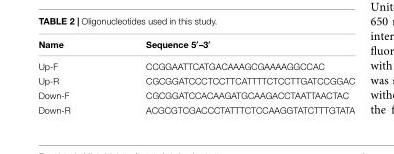table: (37, 37, 354, 114)
table column: (107, 37, 354, 114), (37, 37, 107, 114)
table column header: (37, 37, 354, 55)
table row: (37, 37, 354, 55), (37, 55, 354, 72), (37, 72, 354, 87), (37, 87, 354, 101), (37, 101, 354, 114)
